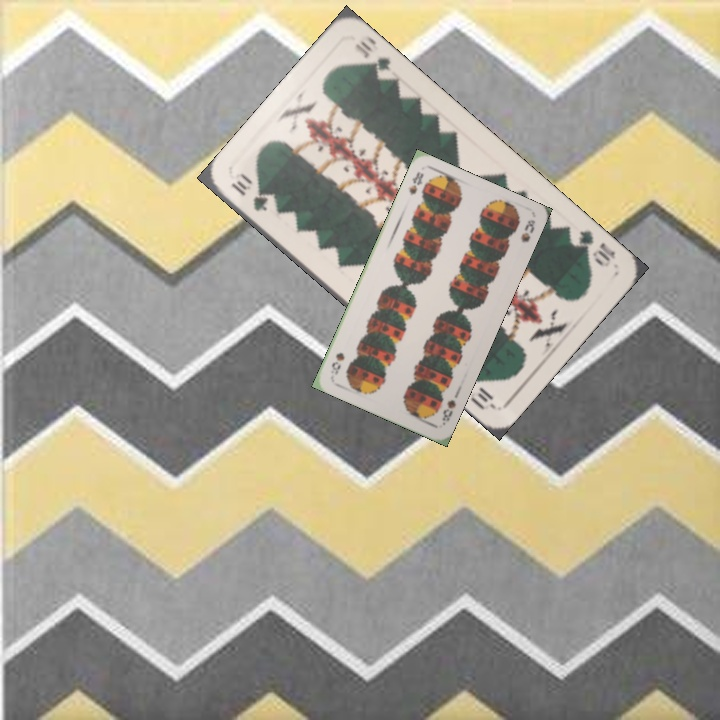G10: (565, 226, 618, 269), (226, 170, 271, 214)
S8: (438, 395, 458, 428), (405, 167, 426, 198)
